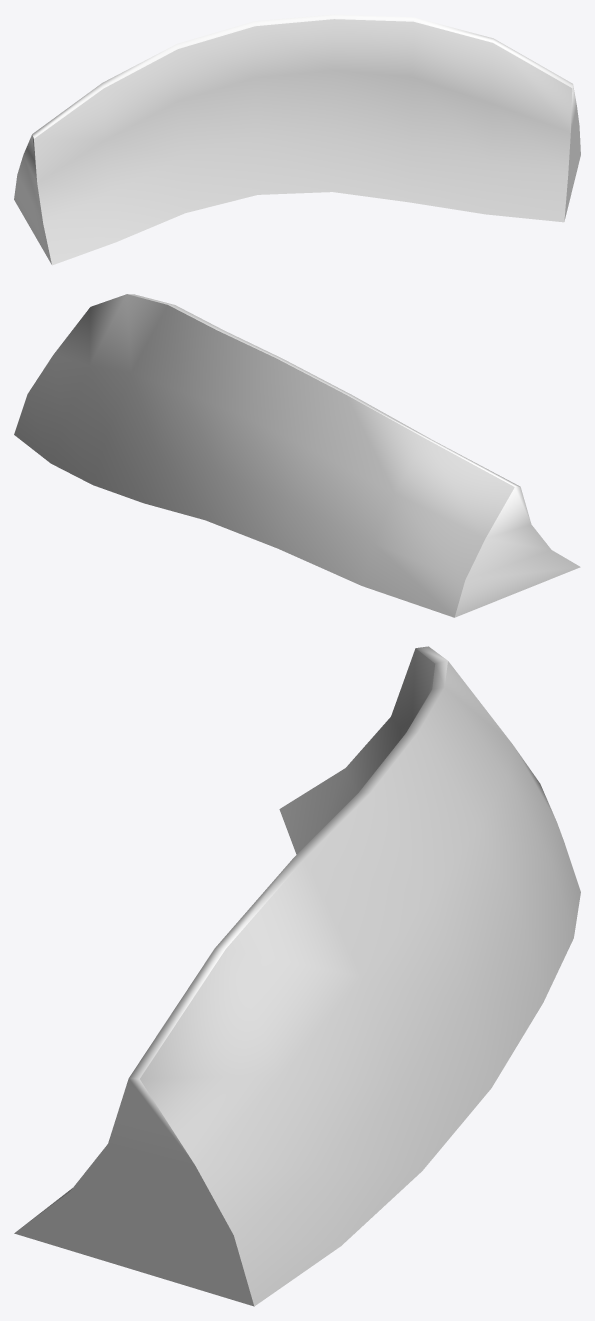
Rendered from sands1.fbx.
3 views of the same model, one above another, from view 1: azimuth 30°, elevation 25°; view 2: azimuth 150°, elevation 25°; view 3: azimuth 270°, elevation 25° (orthographic). The views are drawn at different scales.
Parts seen in each view (by area): view 1: Cube; view 2: Cube; view 3: Cube.
Boxes of the visible parts, x1=… form: Cube: x1=14, y1=14, x2=580, y2=265; Cube: x1=14, y1=294, x2=580, y2=617; Cube: x1=14, y1=646, x2=580, y2=1306.
Bounding box in the file's own units: 7.57 × 2.37 × 3.82.
1 material, 1 textured.
